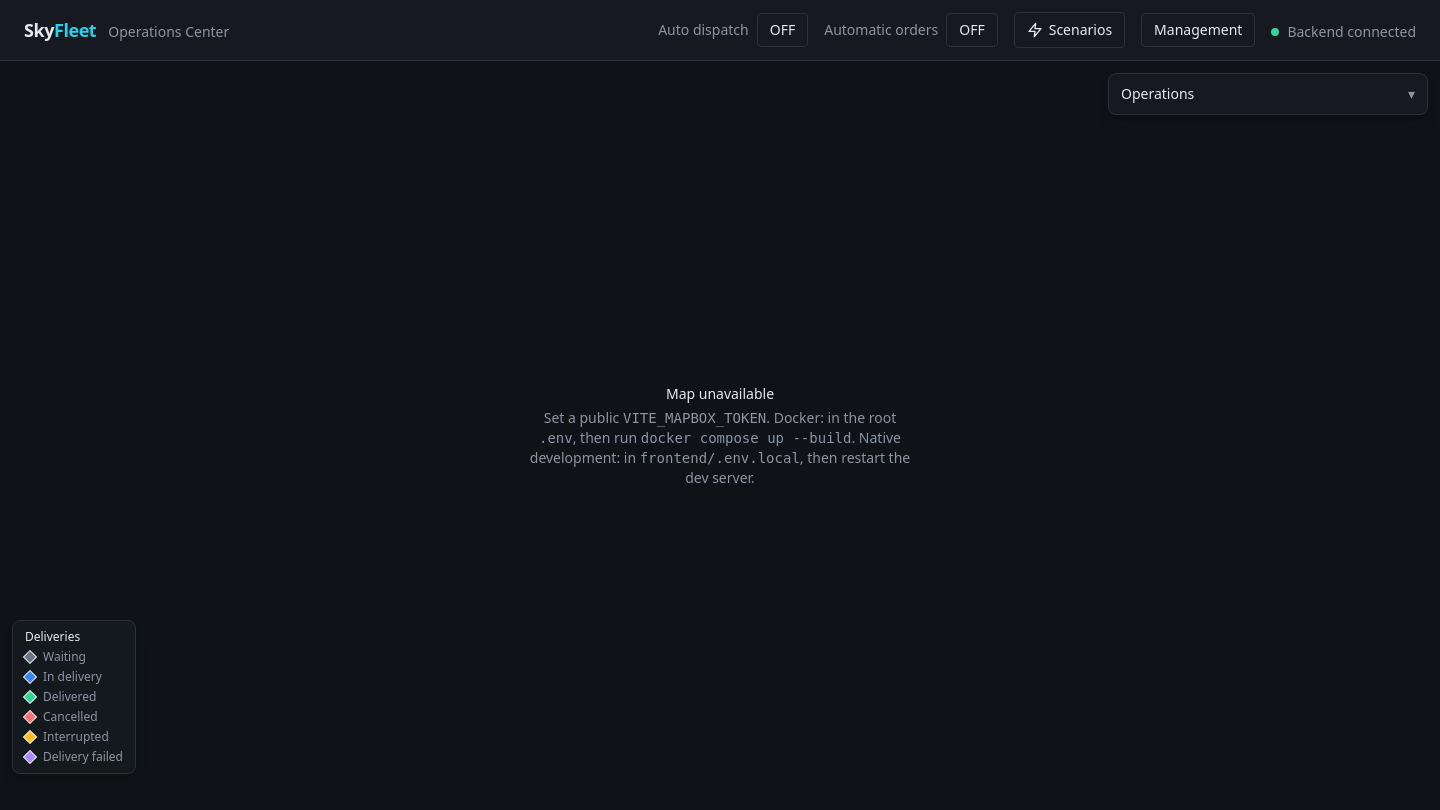
Test: App operations panel and header controls (Feature 021C) › polls the order simulation state once for both the switch and Management
Check: the switch named "Automatic orders" is shown, box x1=946 y1=13 x2=998 y2=47
What coordinates should you click on to do the following:
click the button "Management"
I would click on:
 (1198, 30)
Its box is x1=1141 y1=13 x2=1255 y2=47.
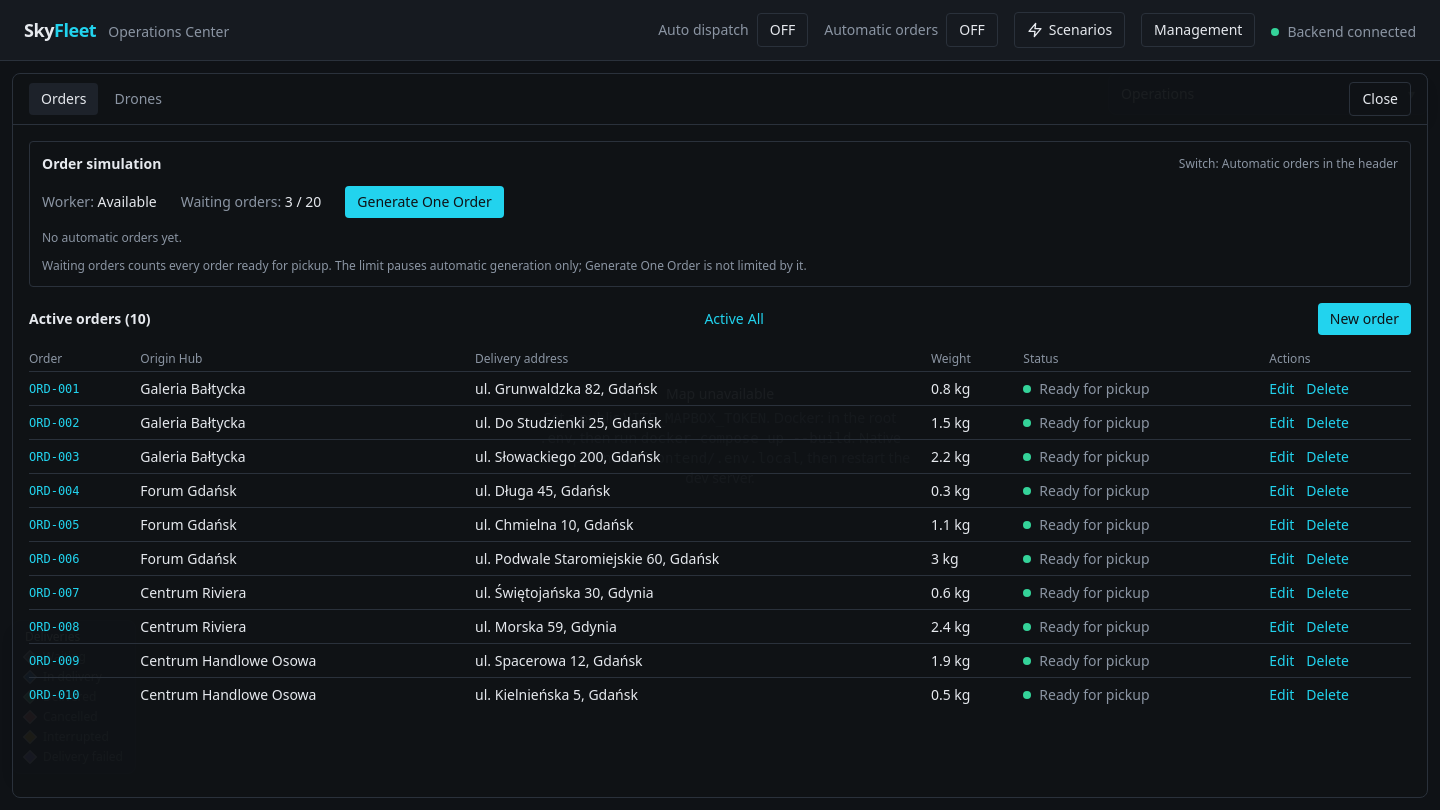
Check: the button "Generate One Order" is shown, box x1=345 y1=186 x2=504 y2=218
